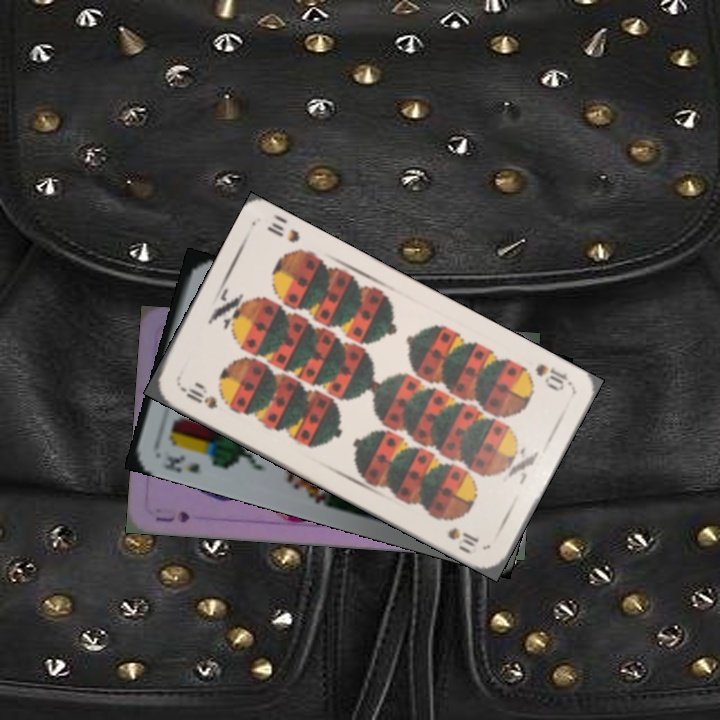EK: (159, 450, 202, 476)
S10: (531, 359, 573, 394), (176, 379, 220, 412)
SU: (151, 507, 193, 525)
